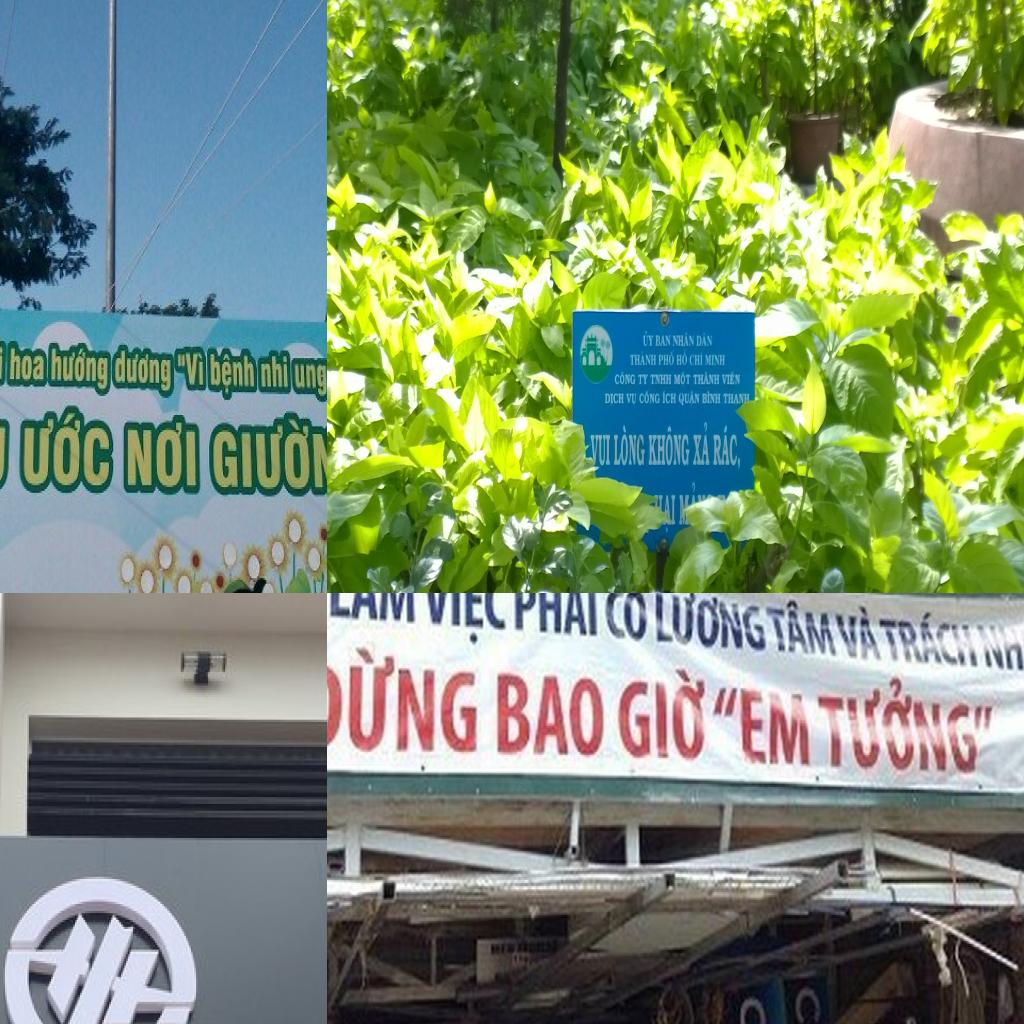text: (811, 677, 1002, 787), (327, 636, 484, 765), (489, 665, 608, 764), (208, 403, 327, 498), (613, 660, 711, 775), (711, 678, 820, 780), (20, 404, 113, 494), (650, 593, 772, 658), (875, 604, 982, 673), (122, 413, 202, 491), (762, 593, 839, 661), (419, 593, 508, 646), (512, 593, 599, 645), (976, 610, 1024, 700), (830, 598, 888, 667), (47, 339, 112, 398), (327, 593, 419, 634), (112, 343, 176, 400), (603, 593, 651, 653), (208, 343, 257, 398), (6, 343, 47, 388), (648, 426, 690, 466), (256, 347, 291, 394), (176, 343, 208, 392), (292, 356, 327, 399), (614, 424, 645, 467), (713, 424, 741, 471), (692, 422, 710, 466), (590, 433, 610, 466), (629, 350, 656, 366), (723, 392, 750, 407), (678, 390, 701, 407), (613, 370, 636, 386), (693, 372, 719, 386), (673, 332, 695, 348), (650, 372, 672, 386), (658, 348, 675, 366), (605, 392, 625, 407), (701, 390, 721, 405), (696, 332, 714, 348), (674, 372, 692, 388), (704, 353, 726, 366), (690, 349, 705, 368), (639, 391, 660, 404), (722, 372, 741, 386), (642, 329, 655, 348), (676, 348, 689, 366), (662, 390, 677, 405), (656, 334, 671, 347), (626, 392, 637, 407), (637, 372, 649, 384)
